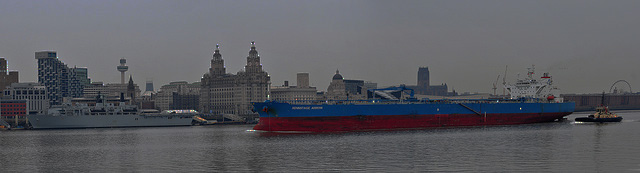boat: (26, 91, 199, 130)
tanker: (252, 67, 573, 132)
tug_boat: (575, 94, 626, 123)
